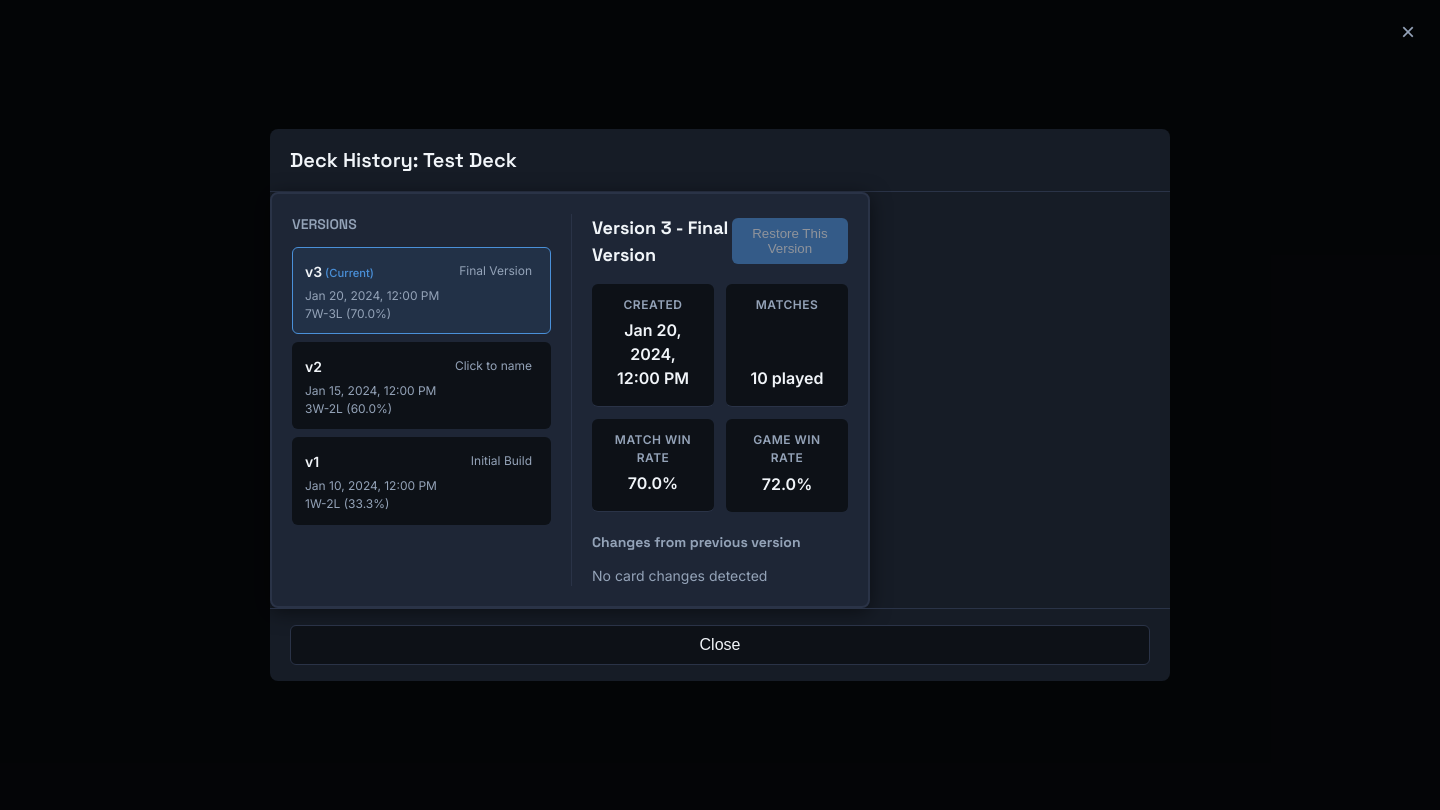
DeckHistoryModal › should allow editing version name
The image size is (1440, 810).
# Click on the version name to edit
Click the text "Final Version" at (496, 271), box [453,260,538,282]
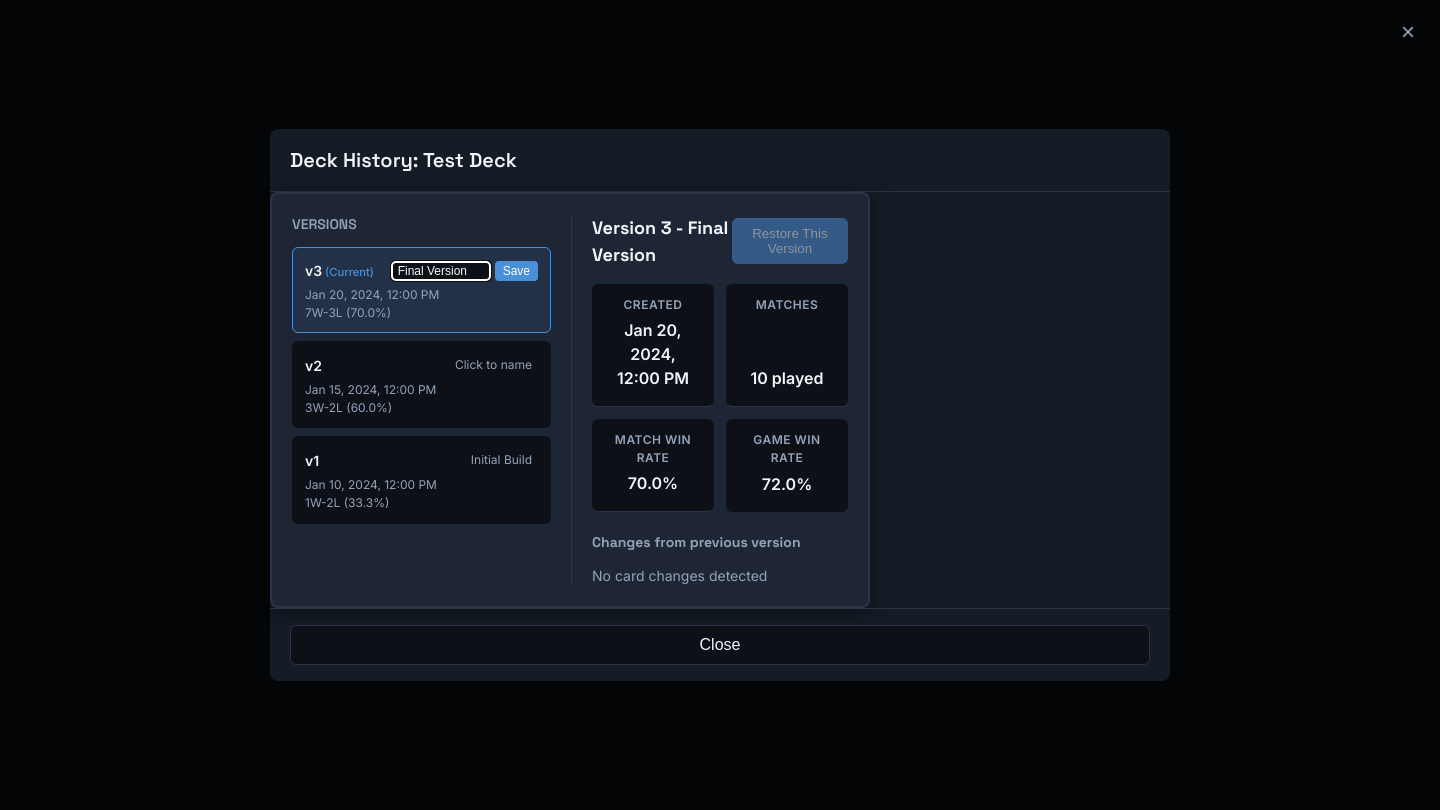
expect the field is shown: met, box [391,260,491,280]
